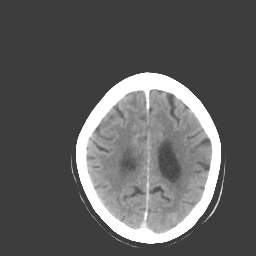ischemic: (174, 142, 205, 185)
